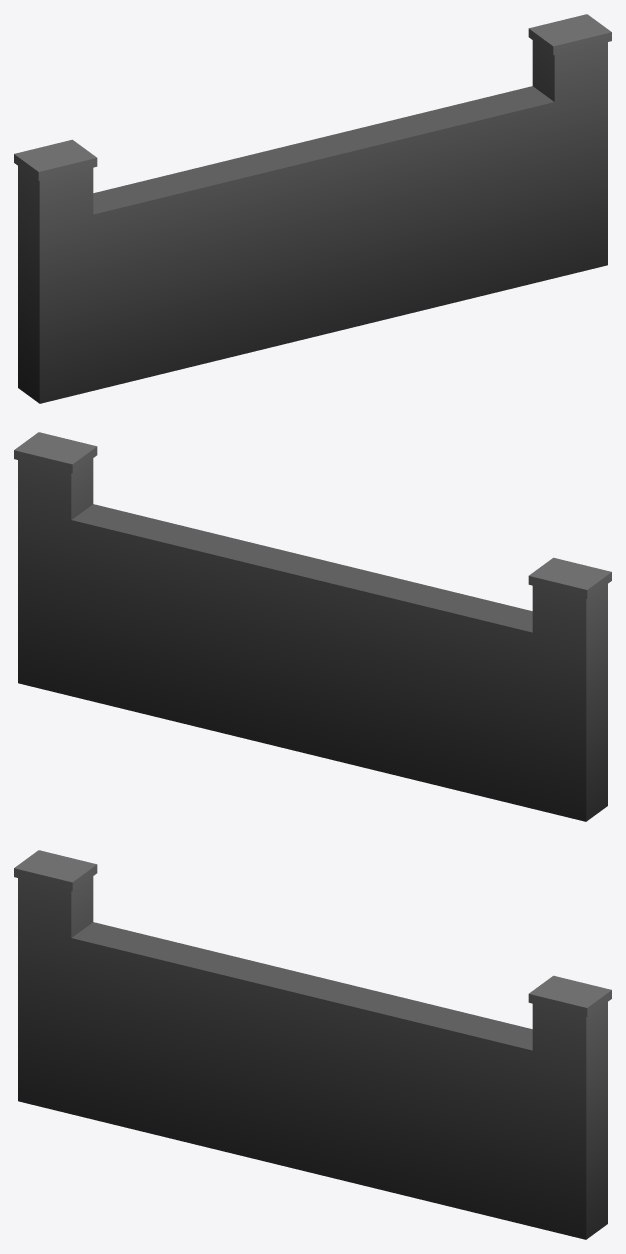
The model's file is PagerJ1.fbx.
The picture shows the model from 3 angles, top to bottom: view 1: azimuth 30°, elevation 25°; view 2: azimuth 150°, elevation 25°; view 3: azimuth 330°, elevation 25°; orthographic projection.
Visible parts, largest first — view 1: PagerJ1_LOD0; view 2: PagerJ1_LOD0; view 3: PagerJ1_LOD0.
Boxes of the visible parts, x1,y1,x2,y2 form: PagerJ1_LOD0: [14, 14, 611, 403]; PagerJ1_LOD0: [14, 432, 611, 821]; PagerJ1_LOD0: [14, 850, 611, 1239].
Size of what is drawn, in the model's own units: 383 by 149 by 28.63.
